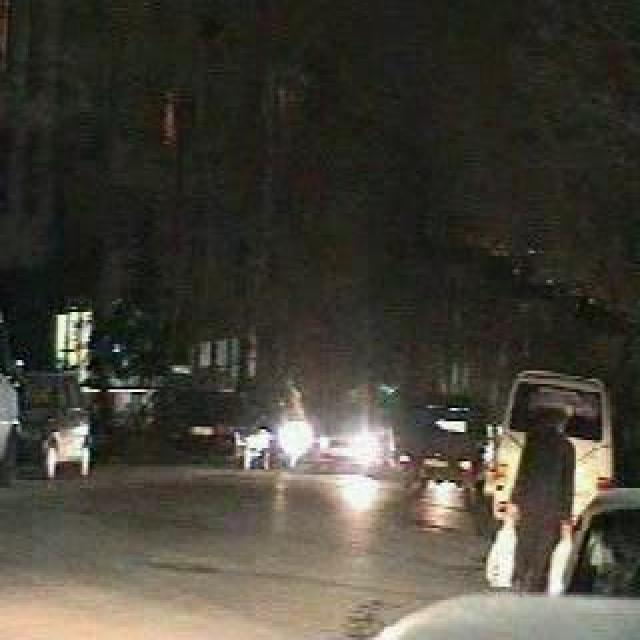other: (261, 389, 396, 532)
